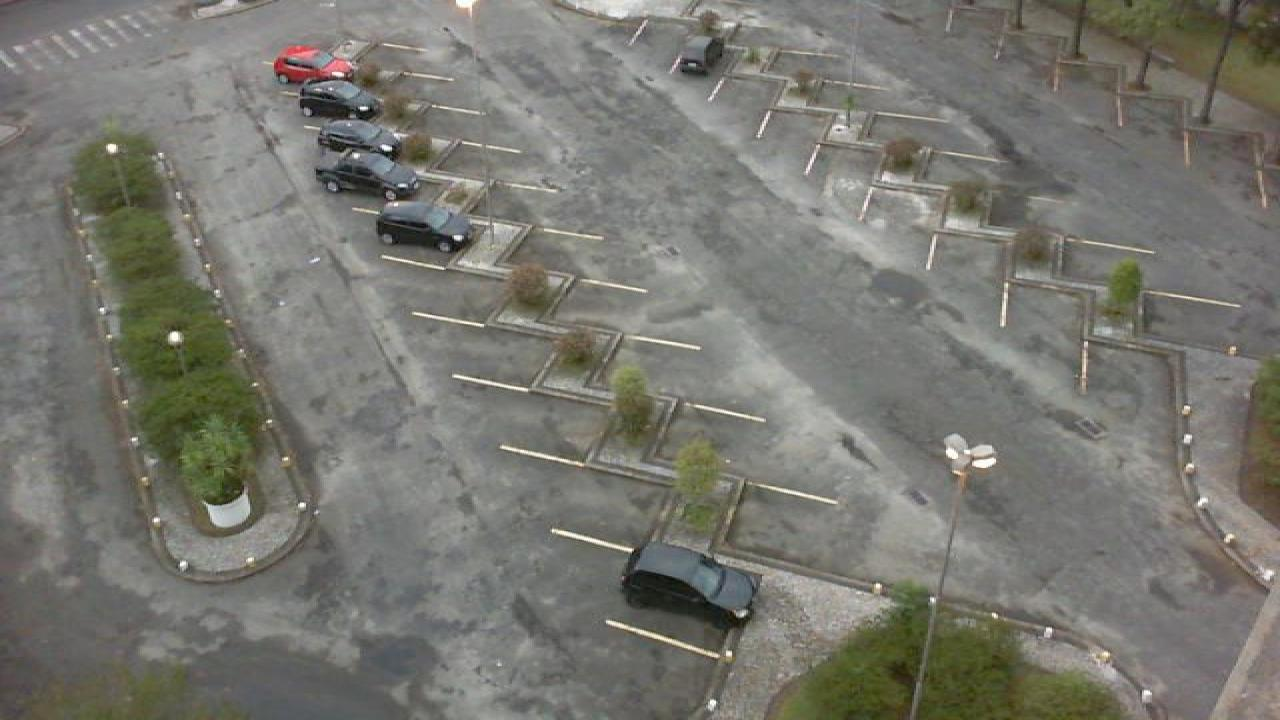Car: (620, 541, 760, 626), (374, 199, 476, 252), (314, 152, 422, 200), (310, 118, 404, 163), (272, 43, 358, 86), (296, 79, 384, 120), (672, 31, 728, 78)
